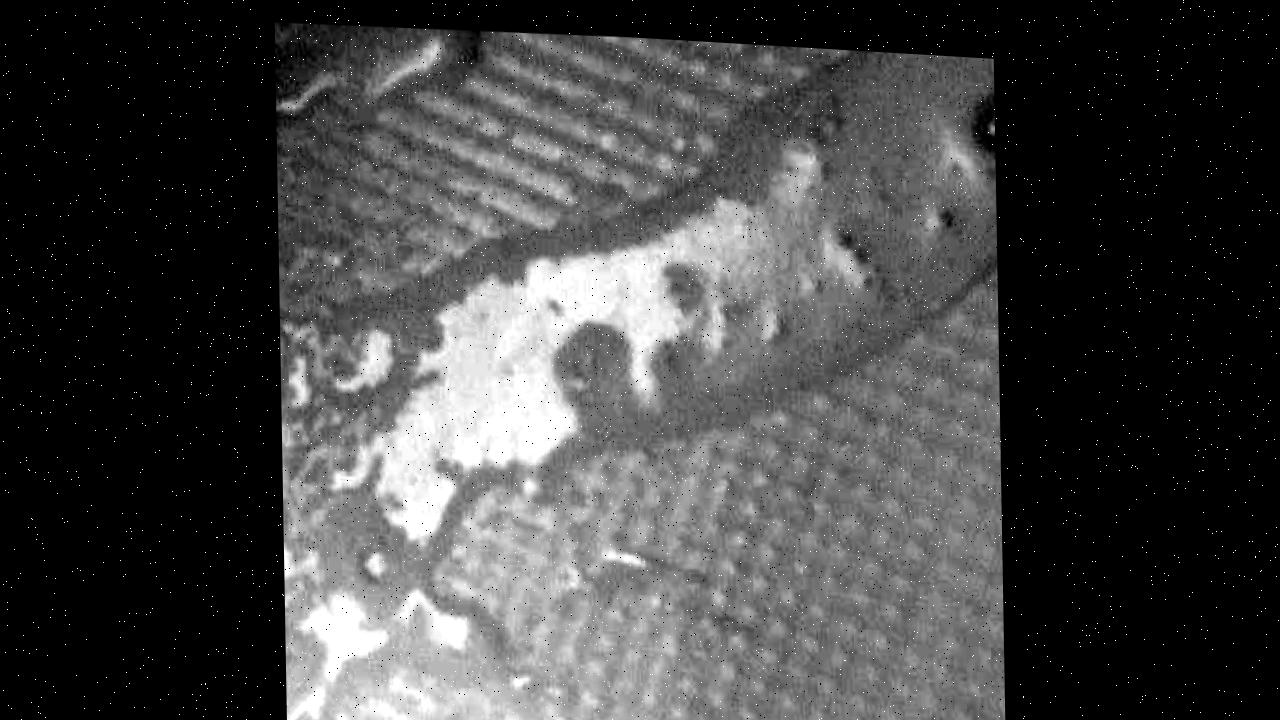drinks Stains: (274, 13, 1006, 720)
